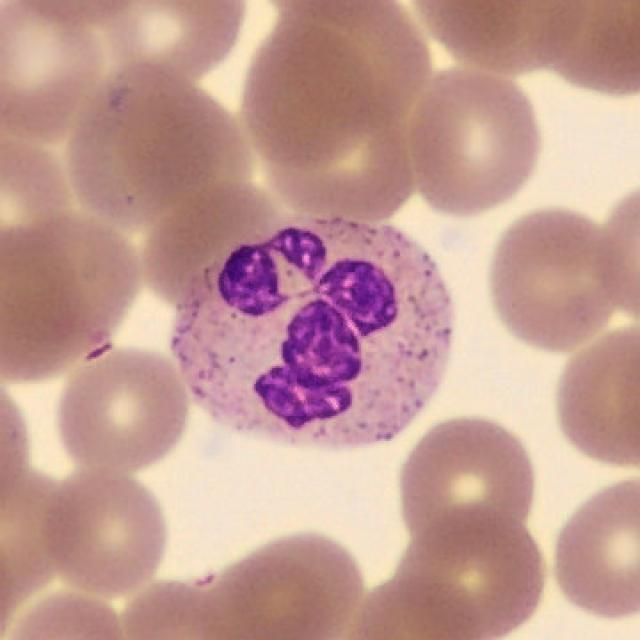Neutrofilo segmentado: (171, 215, 457, 452)
